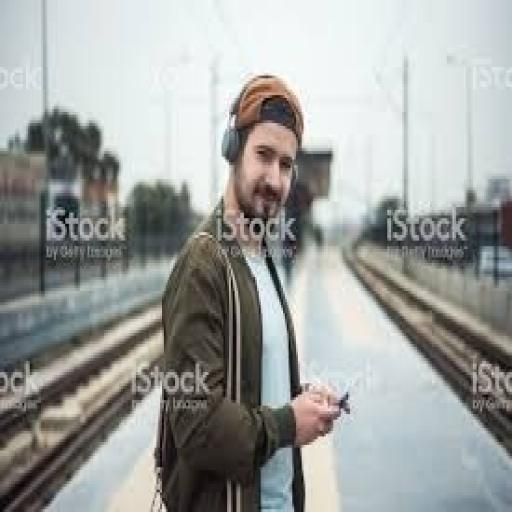listening_to_music: (154, 70, 346, 509)
